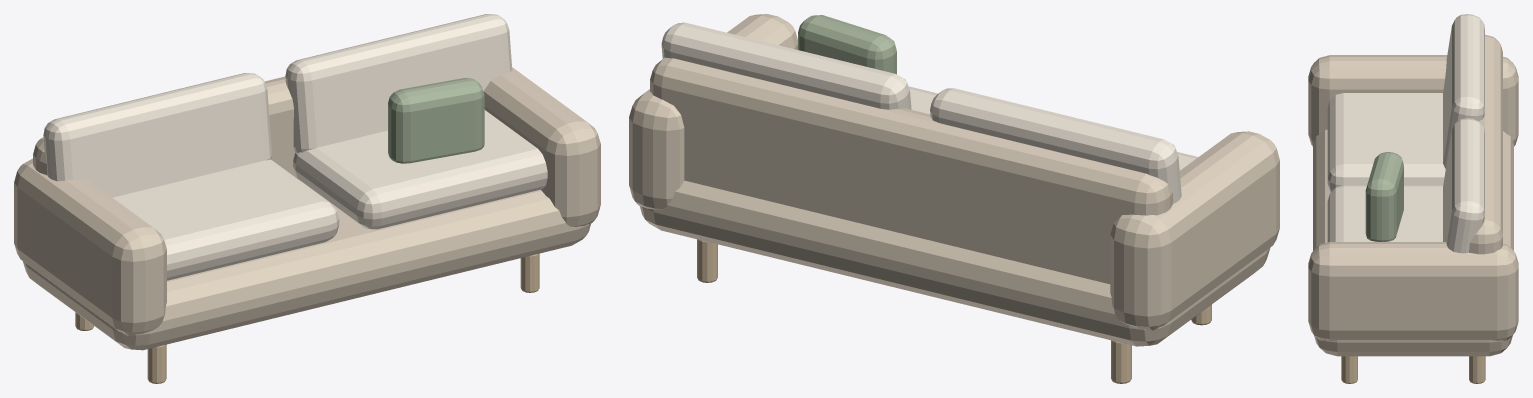
File: sofa-cloud-painterly-v1.glb
3 views of the same model, side by side, from view 1: azimuth 30°, elevation 25°; view 2: azimuth 150°, elevation 25°; view 3: azimuth 270°, elevation 25° (orthographic). The views are drawn at different scales.
Visible parts, largest first — view 1: HP_SOFA__Base, HP_SOFA__BackCushion_0, HP_SOFA__Arm_-1, HP_SOFA__BackCushion_1, HP_SOFA__Seat_1, HP_SOFA__Seat_0, HP_SOFA__Arm_1, HP_SOFA__AccentCushion, HP_SOFA__Back, HP_SOFA__Leg.002, HP_SOFA__Leg; view 2: HP_SOFA__Back, HP_SOFA__Base, HP_SOFA__Arm_-1, HP_SOFA__BackCushion_0, HP_SOFA__BackCushion_1, HP_SOFA__Arm_1, HP_SOFA__AccentCushion, HP_SOFA__Leg.003, HP_SOFA__Leg.001; view 3: HP_SOFA__Arm_1, HP_SOFA__Seat_0, HP_SOFA__Arm_-1, HP_SOFA__Base, HP_SOFA__BackCushion_1, HP_SOFA__Seat_1, HP_SOFA__BackCushion_0, HP_SOFA__Back, HP_SOFA__AccentCushion, HP_SOFA__Leg.002, HP_SOFA__Leg.003.
Part boxes in pixels (x1,y1,x2,y2): HP_SOFA__Base: [22, 181, 590, 350]; HP_SOFA__BackCushion_0: [43, 73, 272, 197]; HP_SOFA__Arm_-1: [14, 158, 166, 335]; HP_SOFA__BackCushion_1: [285, 14, 512, 152]; HP_SOFA__Seat_1: [293, 110, 547, 229]; HP_SOFA__Seat_0: [113, 159, 339, 280]; HP_SOFA__Arm_1: [483, 67, 600, 226]; HP_SOFA__AccentCushion: [388, 78, 484, 163]; HP_SOFA__Back: [33, 76, 300, 180]; HP_SOFA__Leg.002: [520, 253, 539, 292]; HP_SOFA__Leg: [147, 344, 166, 383]; HP_SOFA__Back: [650, 57, 1173, 284]; HP_SOFA__Base: [640, 180, 1270, 346]; HP_SOFA__Arm_-1: [1110, 131, 1279, 330]; HP_SOFA__BackCushion_0: [930, 88, 1181, 203]; HP_SOFA__BackCushion_1: [661, 22, 911, 109]; HP_SOFA__Arm_1: [629, 14, 797, 209]; HP_SOFA__AccentCushion: [798, 15, 896, 74]; HP_SOFA__Leg.003: [697, 239, 717, 282]; HP_SOFA__Leg.001: [1111, 340, 1131, 383]; HP_SOFA__Arm_1: [1308, 242, 1518, 340]; HP_SOFA__Seat_0: [1327, 93, 1445, 192]; HP_SOFA__Arm_-1: [1308, 55, 1518, 146]; HP_SOFA__Base: [1313, 129, 1513, 356]; HP_SOFA__BackCushion_1: [1443, 118, 1484, 253]; HP_SOFA__Seat_1: [1327, 185, 1443, 242]; HP_SOFA__BackCushion_0: [1443, 14, 1484, 168]; HP_SOFA__Back: [1469, 34, 1502, 254]; HP_SOFA__AccentCushion: [1365, 152, 1403, 241]; HP_SOFA__Leg.002: [1341, 356, 1357, 383]; HP_SOFA__Leg.003: [1469, 356, 1485, 383].
Bounding box in the file's own units: 2.07 × 0.8897 × 0.8799.
